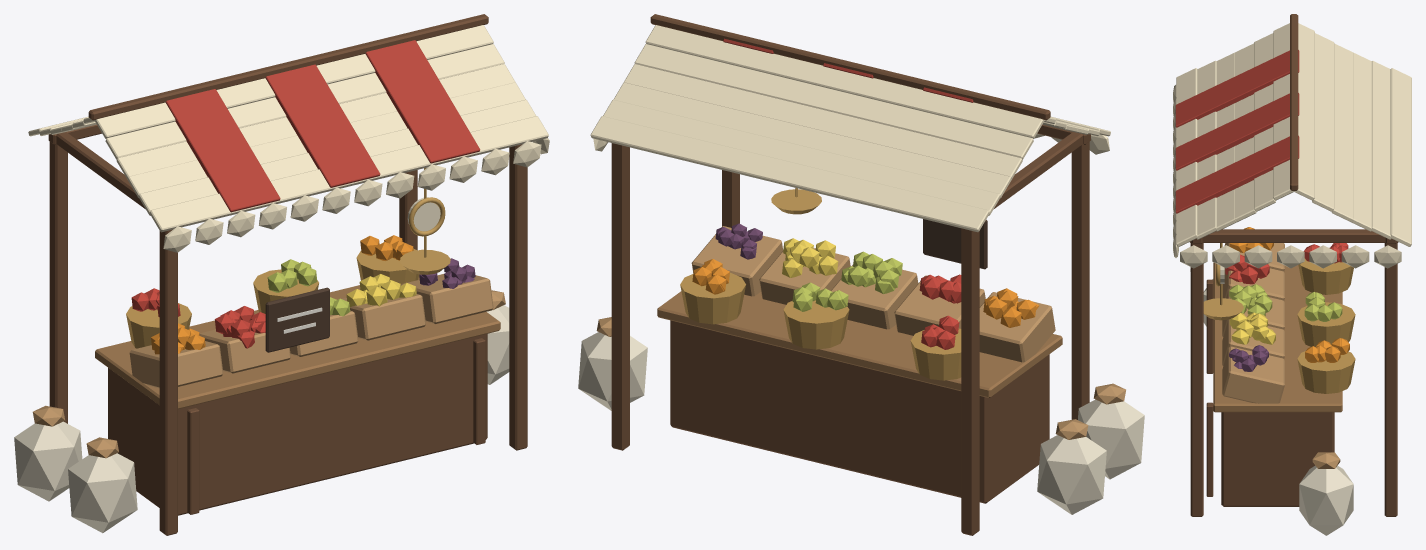
3 renders of one model, left to right at view 1: azimuth 30°, elevation 25°; view 2: azimuth 150°, elevation 25°; view 3: azimuth 270°, elevation 25°, orthographic. The views are drawn at different scales.
Parts seen in each view (by area): view 1: square_wood_dark, square_stripe_cream, square_red, square_wood_light, square_linen, square_wood, square_ochre, square_ink, square_apple, square_orange, square_brass, square_lemon (+3 smaller); view 2: square_wood_dark, square_stripe_cream, square_wood_light, square_linen, square_wood, square_ochre, square_pear, square_orange, square_apple, square_ink, square_lemon, square_plum_fruit (+1 smaller); view 3: square_stripe_cream, square_wood_dark, square_red, square_wood_light, square_wood, square_ochre, square_linen, square_pear, square_orange, square_lemon, square_apple, square_brass (+1 smaller).
Part boxes in pixels (x1,y1,x2,y2): square_wood_dark: [48, 14, 527, 535]; square_stripe_cream: [28, 25, 549, 252]; square_red: [165, 40, 480, 212]; square_wood_light: [32, 274, 505, 458]; square_linen: [14, 305, 509, 533]; square_wood: [95, 275, 500, 409]; square_ochre: [126, 249, 418, 348]; square_ink: [265, 287, 329, 352]; square_apple: [131, 288, 265, 348]; square_orange: [151, 235, 413, 354]; square_brass: [400, 167, 450, 274]; square_lemon: [346, 274, 416, 307]; square_wood_dark: [611, 14, 1090, 535]; square_stripe_cream: [590, 25, 1110, 232]; square_wood_light: [596, 226, 1125, 439]; square_linen: [578, 332, 1144, 514]; square_wood: [657, 291, 1062, 397]; square_ochre: [680, 272, 961, 380]; square_pear: [792, 251, 902, 311]; square_orange: [692, 259, 1039, 327]; square_apple: [919, 274, 961, 349]; square_ink: [923, 219, 987, 269]; square_lemon: [782, 238, 838, 277]; square_plum_fruit: [715, 223, 762, 259]; square_stripe_cream: [1173, 23, 1411, 268]; square_wood_dark: [1190, 14, 1398, 516]; square_red: [1175, 50, 1299, 213]; square_wood_light: [1222, 243, 1340, 468]; square_wood: [1213, 262, 1342, 412]; square_ochre: [1297, 258, 1355, 393]; square_linen: [1203, 279, 1353, 535]; square_pear: [1229, 284, 1342, 321]; square_orange: [1229, 227, 1349, 362]; square_lemon: [1229, 312, 1275, 344]; square_apple: [1225, 243, 1348, 284]; square_brass: [1203, 243, 1243, 320].
Size of the model in its own units: 3.22 by 2.34 by 1.48.
